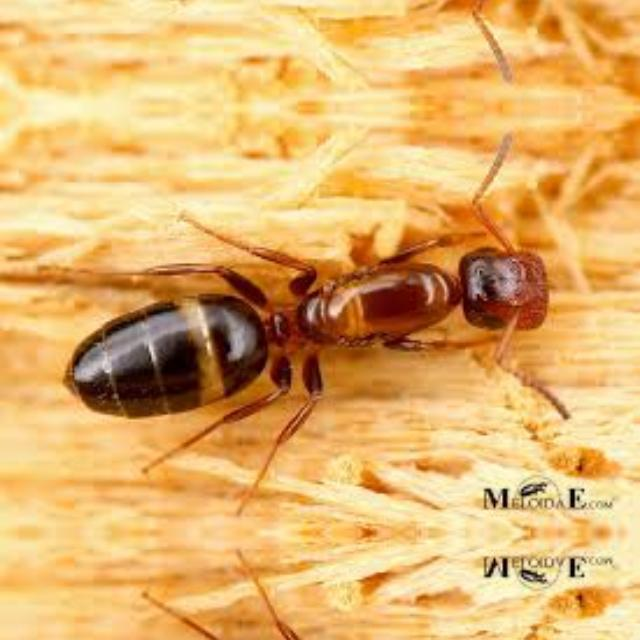Colobopsis: (16, 196, 630, 448)
